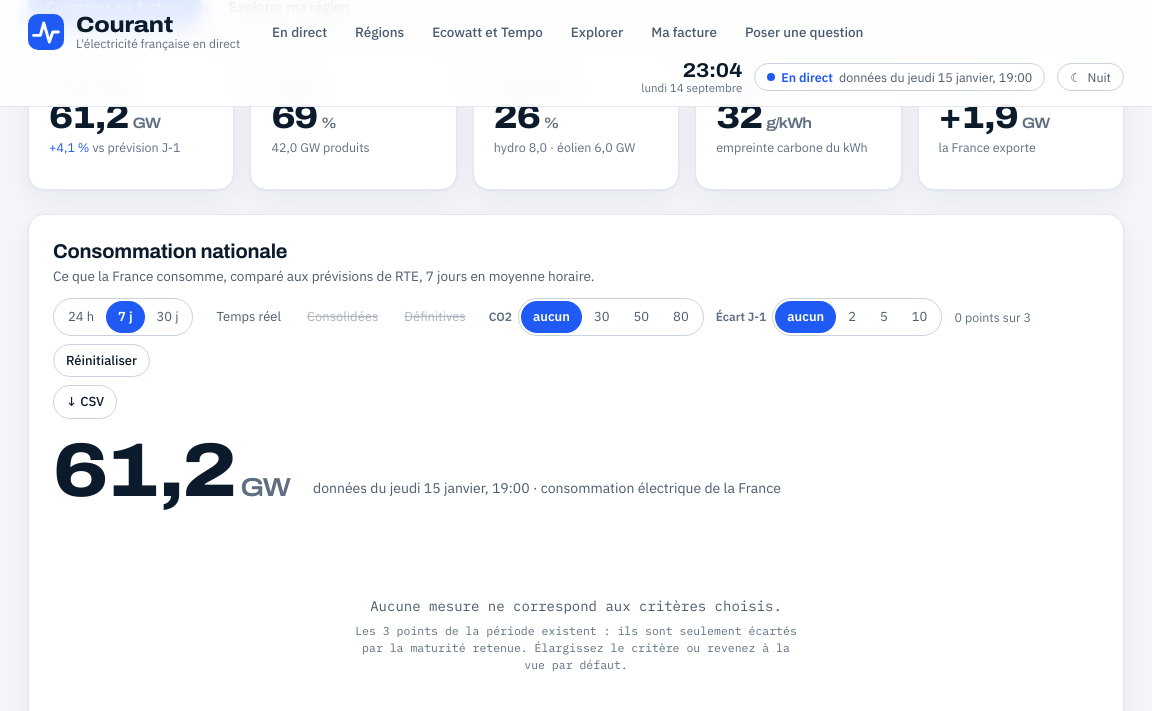
Test: Filtres du tableau de bord › revenir au défaut nettoie les critères et rétablit la vue
(page scrolled)
Click the button "Réinitialiser" at (102, 360), box [53,344,150,377]
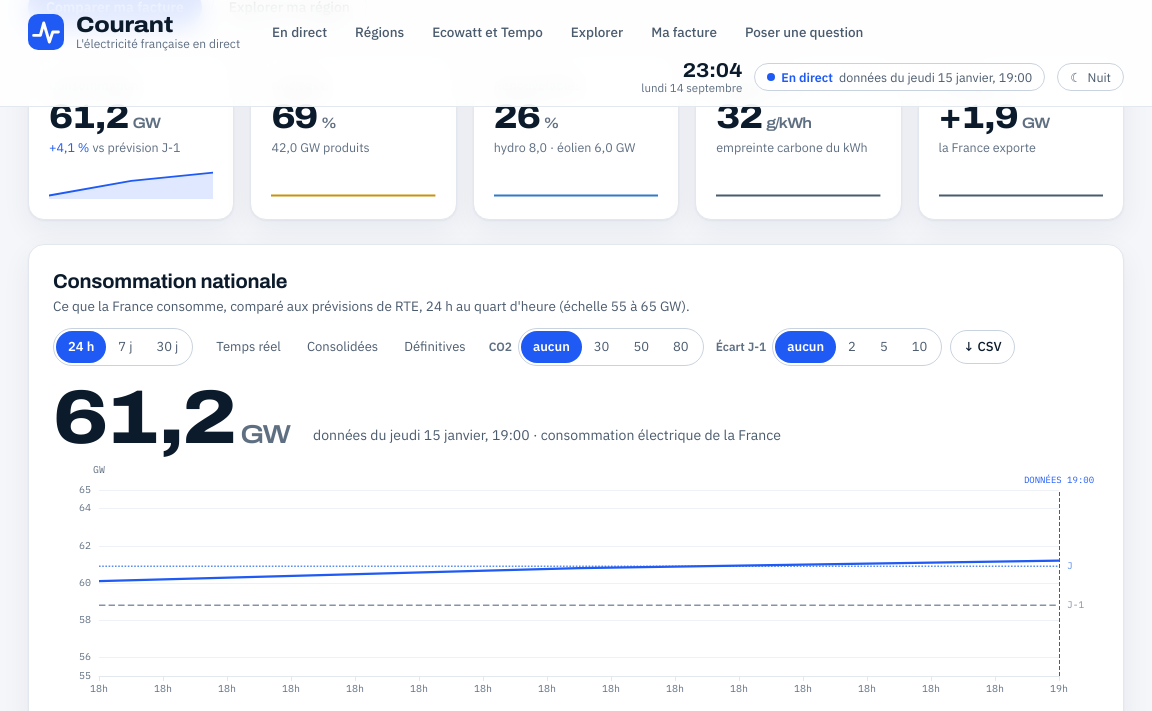
Check: the text "Aucune mesure ne correspond aux critères choisis." is gone
